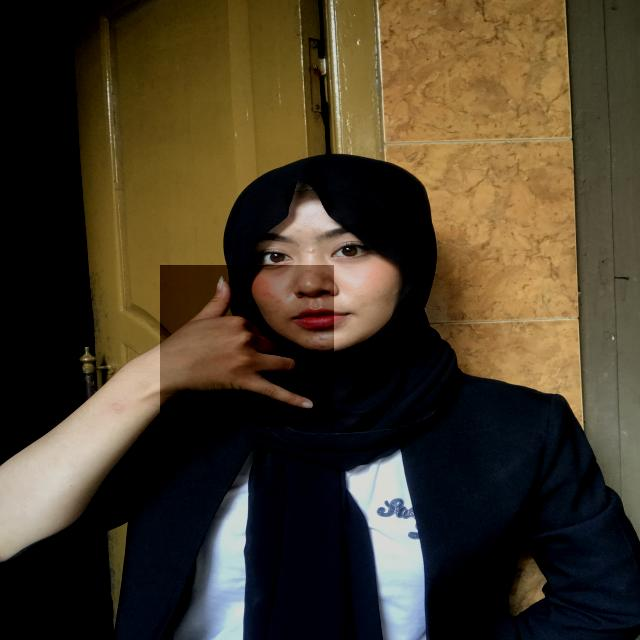telpon: (160, 265, 334, 427)
